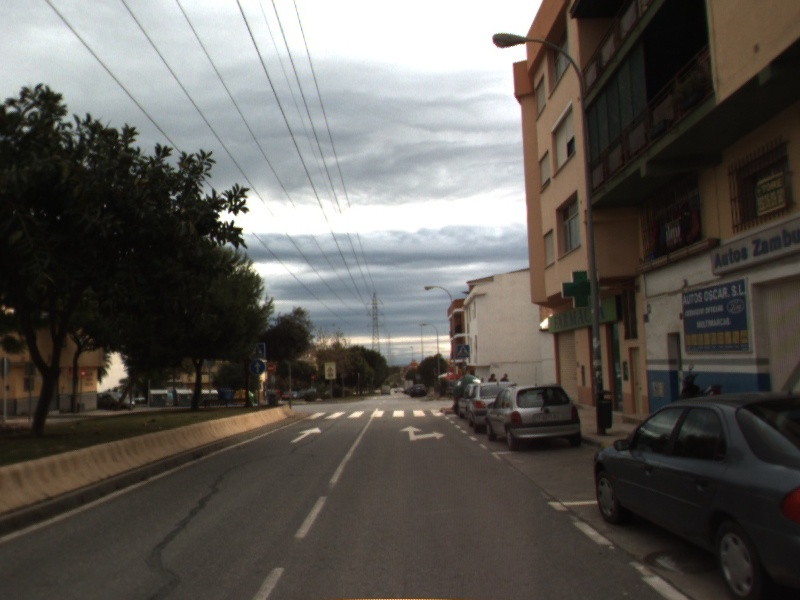STRAIGHT: (288, 425, 324, 445)
STRAIGHT_RIGHT: (398, 424, 447, 442)
